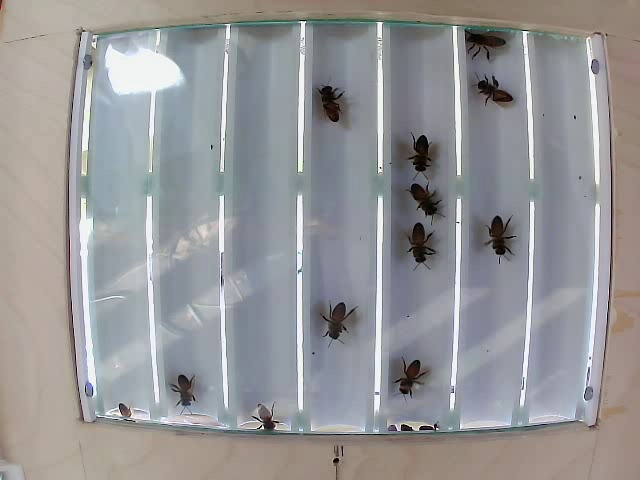bee: (313, 293, 353, 349), (312, 91, 351, 143), (476, 74, 525, 111), (401, 119, 435, 172), (163, 374, 207, 414), (484, 215, 519, 264), (408, 178, 447, 221), (406, 224, 439, 272), (460, 30, 511, 61), (394, 357, 422, 402)
